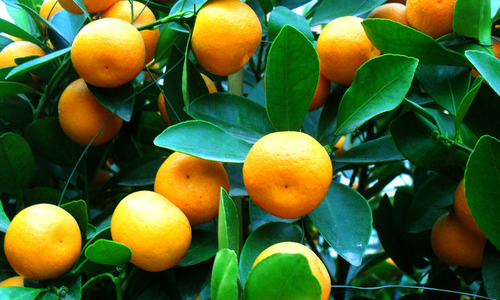orange: (243, 130, 331, 217), (110, 189, 192, 273), (151, 149, 230, 225), (5, 202, 81, 277), (192, 1, 263, 76), (72, 17, 144, 86), (252, 241, 332, 300), (314, 15, 383, 82), (60, 76, 126, 143), (266, 48, 332, 109), (100, 1, 158, 65), (433, 211, 491, 271), (159, 74, 218, 124), (451, 176, 500, 236), (1, 39, 57, 89), (368, 3, 419, 51), (406, 1, 459, 38), (40, 1, 69, 26)
